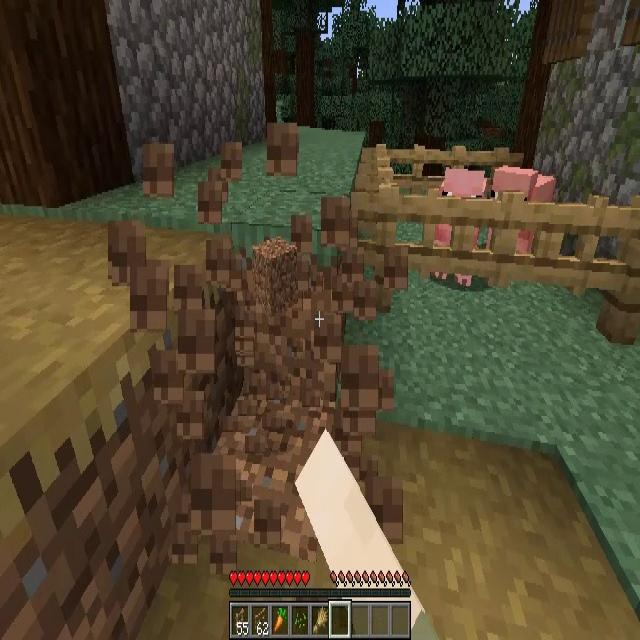pig: (432, 166, 493, 288), (490, 169, 554, 266)
